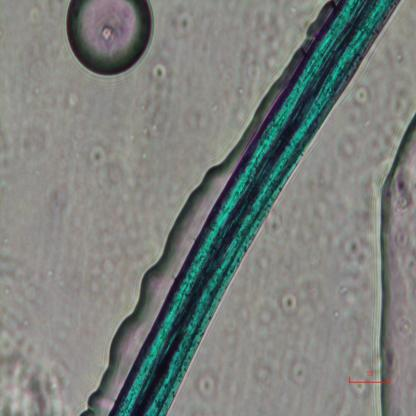Air bubble: (373, 107, 416, 415), (64, 0, 154, 79)
Background material: (229, 7, 291, 96), (0, 332, 65, 414), (346, 236, 369, 269), (104, 151, 127, 182), (288, 358, 310, 390), (339, 132, 360, 164), (349, 372, 371, 400), (87, 144, 108, 171), (192, 104, 212, 132), (199, 369, 216, 401), (176, 10, 194, 38), (280, 292, 299, 317), (151, 60, 167, 85), (354, 84, 370, 105)
Microfibre: (107, 0, 401, 415)
